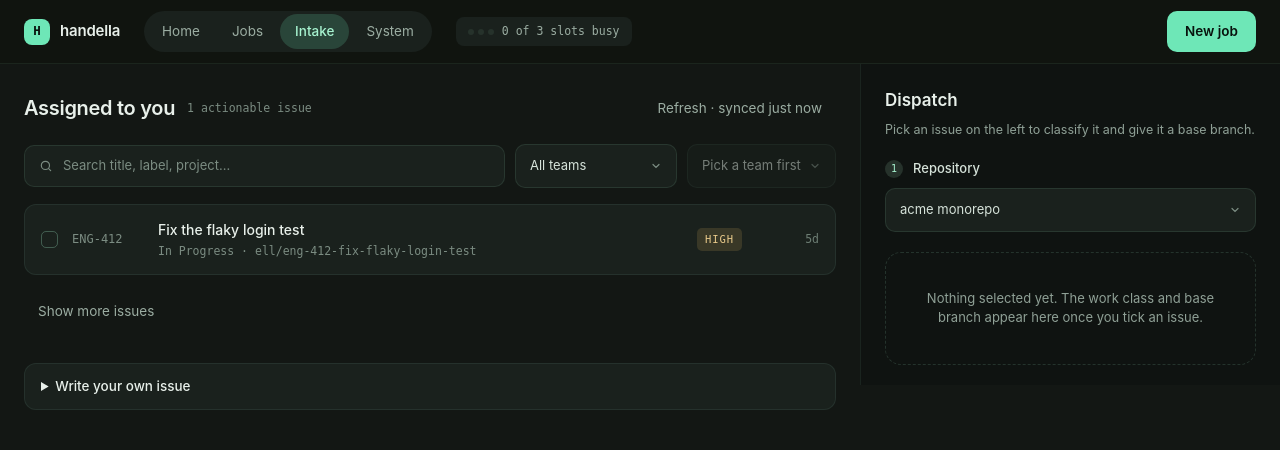
Test case: the issue list › asks for the next page with the cursor the service reported
This screenshot has width=1280, height=450.
Click the button "Show more issues".
click(96, 311)  # box [24,291,168,331]
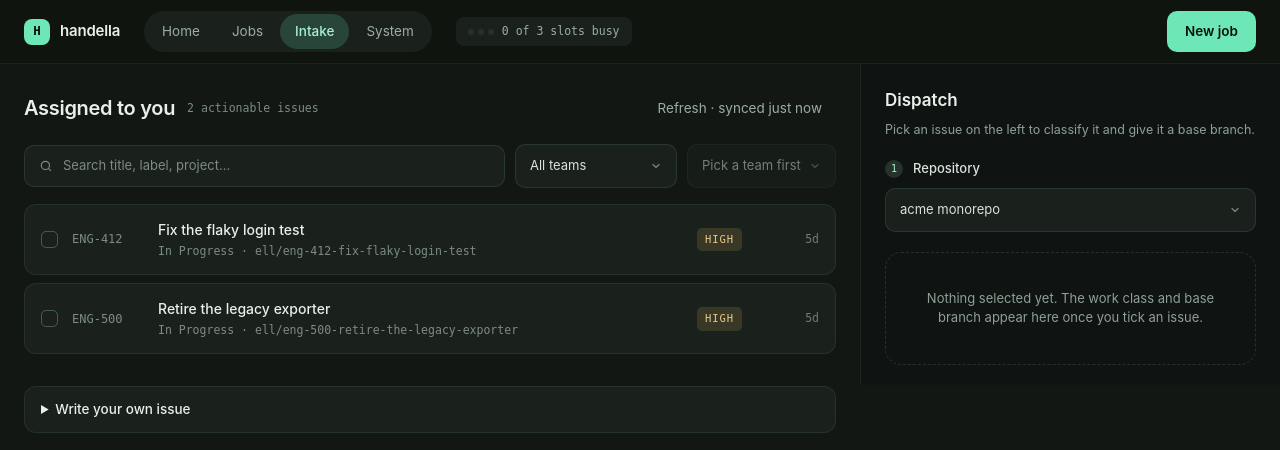
Expected: the text "Fix the flaky login test" is shown, [158,221,304,238]
Expected: the text "Retire the legacy exporter" is shown, [158,300,330,317]
